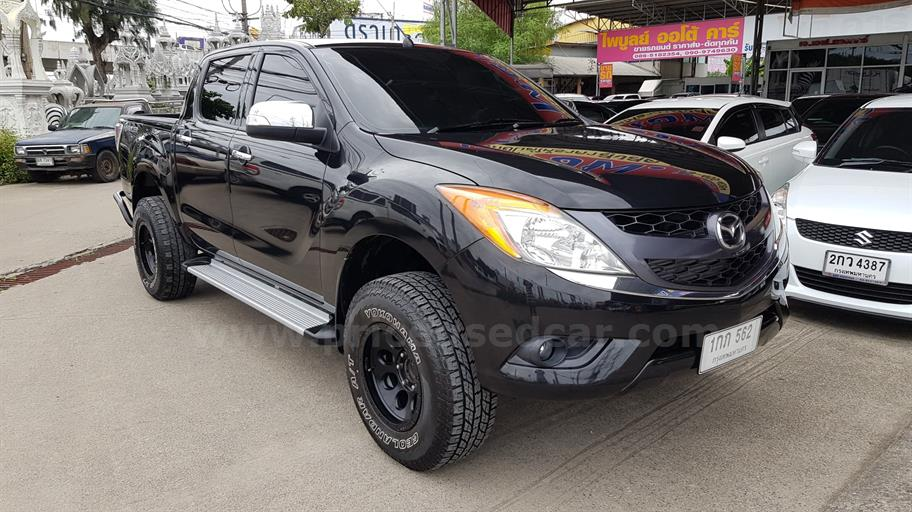pickup: (113, 36, 796, 476)
